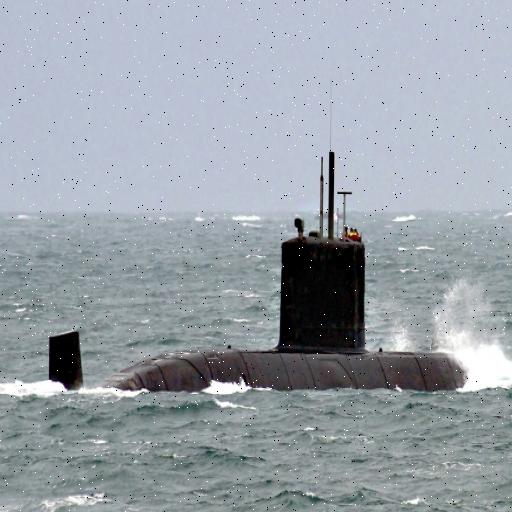submarine: (46, 150, 473, 391)
